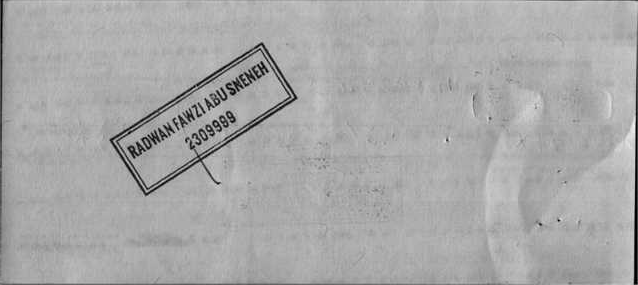stamp: (109, 41, 299, 197)
